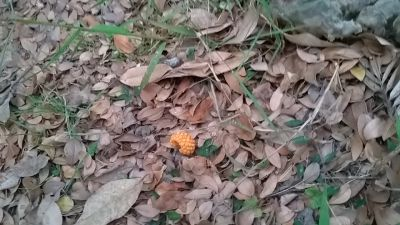eggs: (171, 131, 197, 157)
